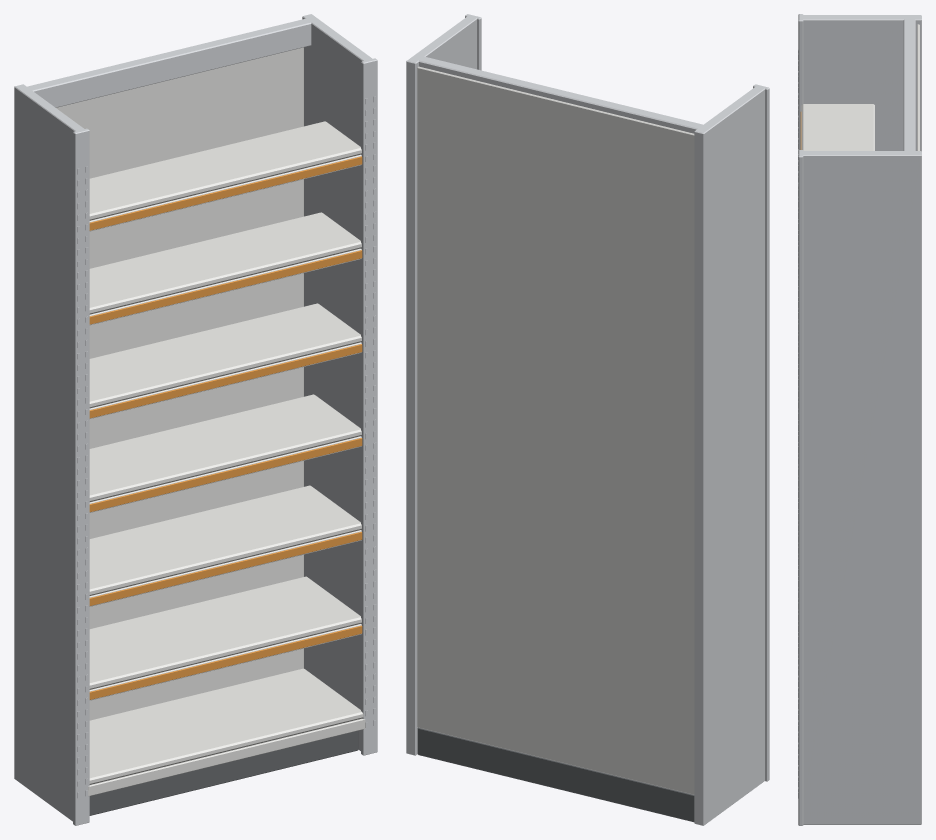
The picture shows the model from 3 angles, left to right: view 1: azimuth 30°, elevation 25°; view 2: azimuth 150°, elevation 25°; view 3: azimuth 270°, elevation 25°; orthographic projection. The views are drawn at different scales.
Parts seen in each view (by area): view 1: shop-bay-3000; view 2: shop-bay-3000; view 3: shop-bay-3000.
Part boxes in pixels (x1,y1,x2,y2): shop-bay-3000: (14,14,377,825); shop-bay-3000: (406,14,769,825); shop-bay-3000: (798,14,921,825).
Bounding box in the file's own units: 1.37 × 3 × 0.5028.
